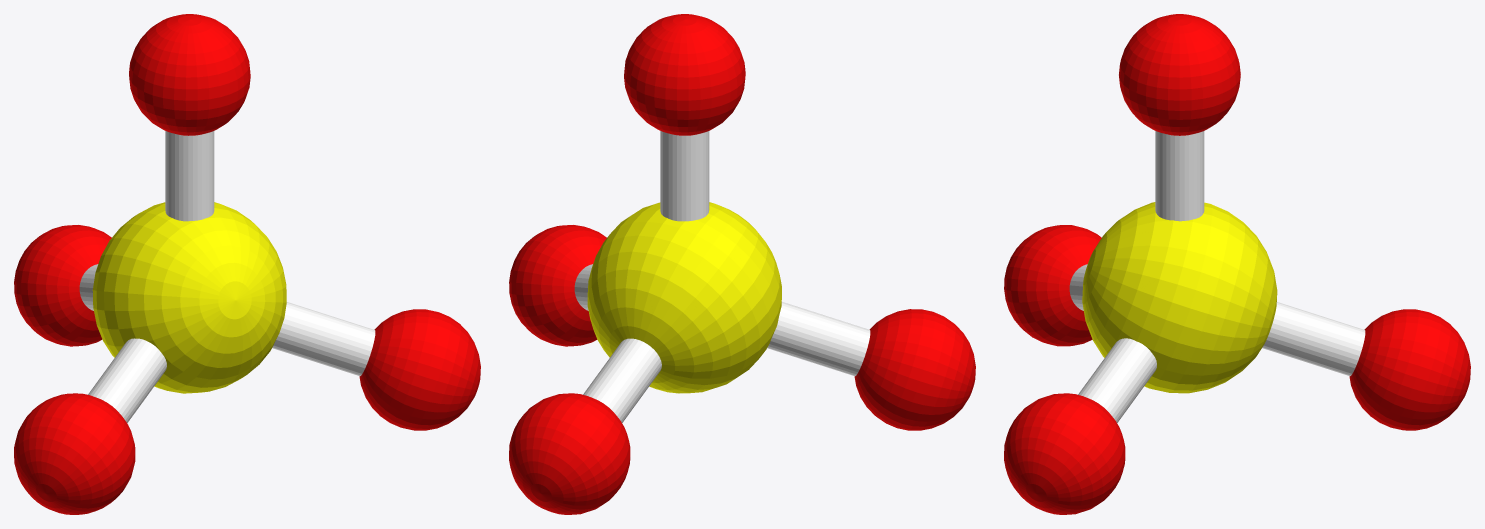
The model's file is SOO4.fbx.
3 views of the same model, side by side, from view 1: azimuth 30°, elevation 25°; view 2: azimuth 150°, elevation 25°; view 3: azimuth 270°, elevation 25° (orthographic).
Visible parts, largest first — view 1: oxy.002; view 2: oxy.002; view 3: oxy.002.
Boxes of the visible parts, x1=… form: oxy.002: x1=14, y1=14, x2=480, y2=514; oxy.002: x1=509, y1=14, x2=975, y2=514; oxy.002: x1=1004, y1=14, x2=1470, y2=514.
Size of the model in its own units: 426 by 367 by 382.
